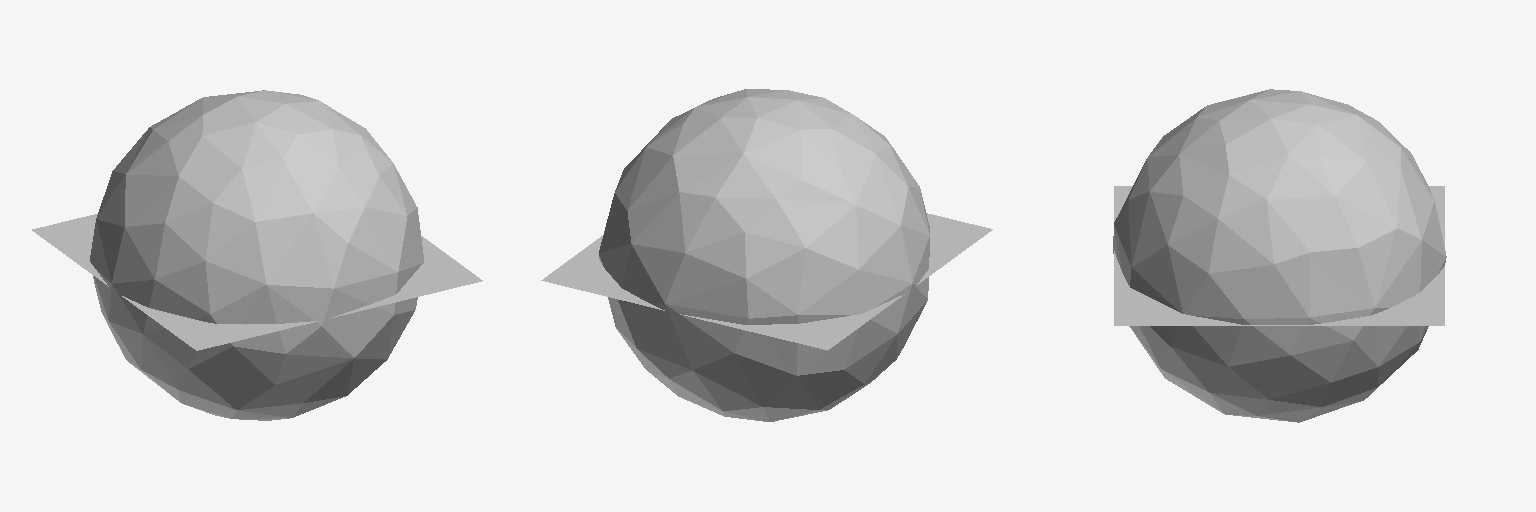
File: GroundLowPloy1.obj
3 views of the same model, side by side, from view 1: azimuth 30°, elevation 25°; view 2: azimuth 150°, elevation 25°; view 3: azimuth 270°, elevation 25° (orthographic).
Visible parts, largest first — view 1: Sphere, Plane; view 2: Sphere, Plane; view 3: Sphere, Plane.
Part boxes in pixels (x1,y1,x2,y2): Sphere: (90, 90, 423, 420); Plane: (32, 214, 482, 350); Sphere: (599, 89, 929, 421); Plane: (541, 213, 992, 350); Sphere: (1113, 89, 1446, 422); Plane: (1114, 186, 1444, 325).
Bounding box in the file's own units: 2.01 × 1.99 × 2.01.